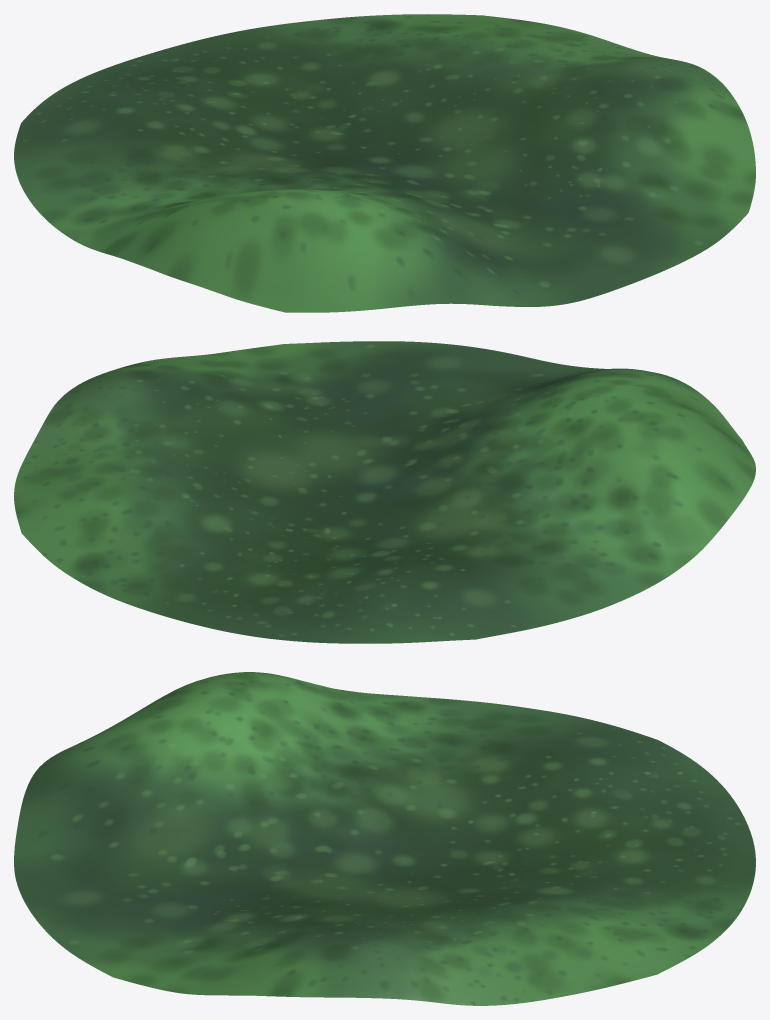
File: terrain_new.fbx
3 renders of one model, top to bottom at view 1: azimuth 30°, elevation 25°; view 2: azimuth 150°, elevation 25°; view 3: azimuth 270°, elevation 25°, orthographic. The views are drawn at different scales.
Parts seen in each view (by area): view 1: Plane; view 2: Plane; view 3: Plane.
Boxes of the visible parts, box(x1,y1,x2,y2) form: Plane: box(14, 14, 755, 312); Plane: box(14, 341, 755, 643); Plane: box(14, 672, 755, 1005).
Bounding box in the file's own units: 13.41 × 13.26 × 1.54.
